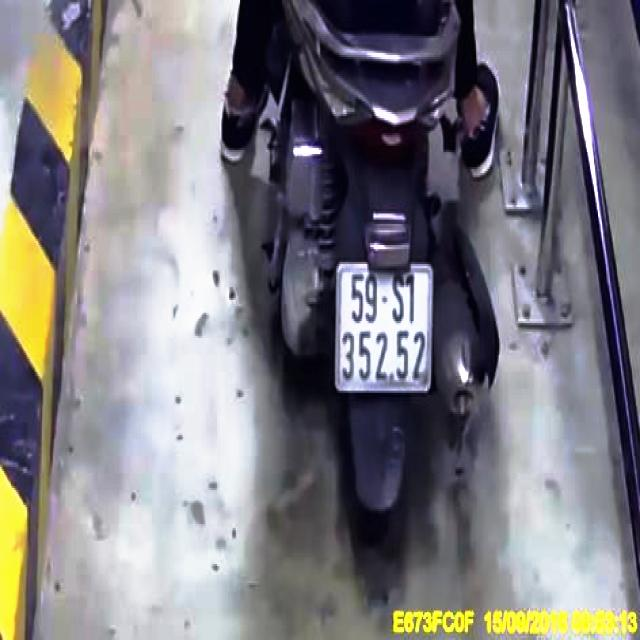license_plate: (340, 265, 431, 392)
